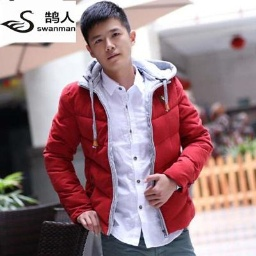face: (82, 1, 137, 73)
